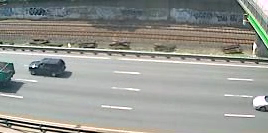car: (27, 54, 68, 80), (251, 93, 268, 113)
